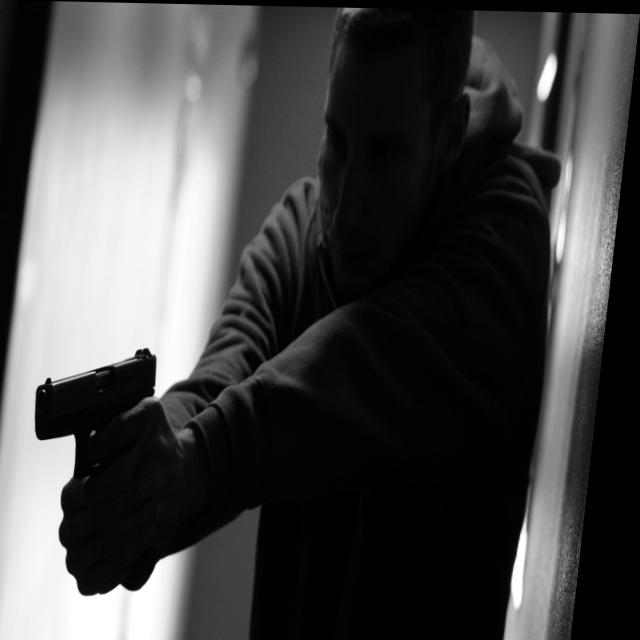handgun: (37, 340, 166, 471)
